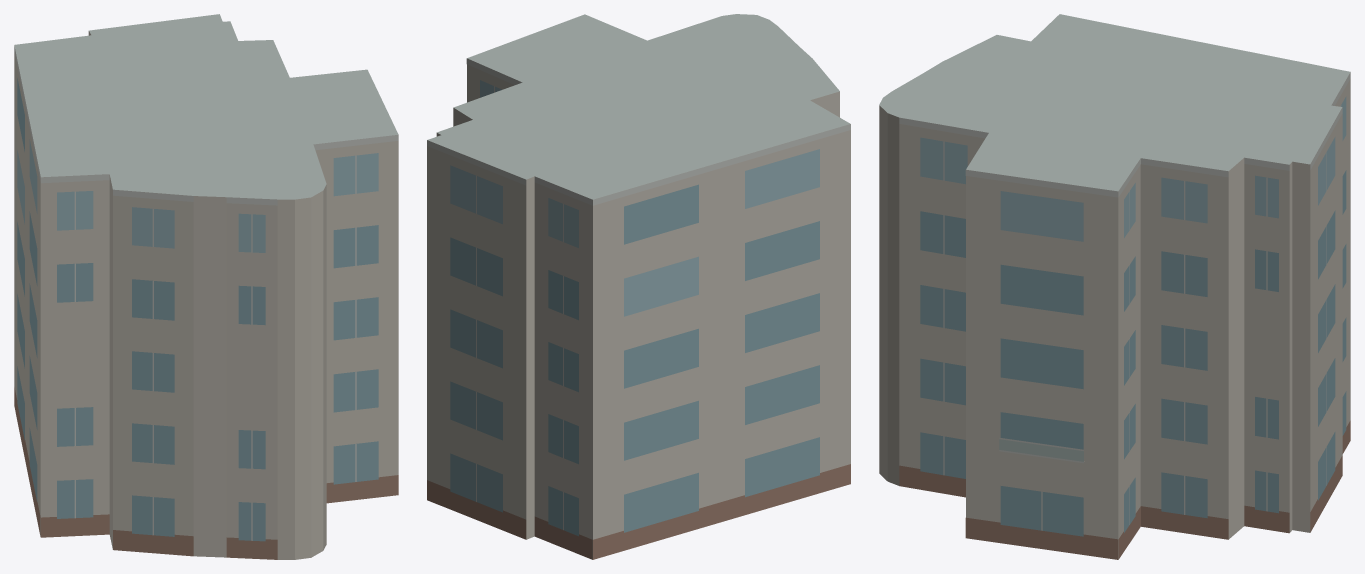
Rendered from survey-upis-32779624.glb.
3 views of the same model, side by side, from view 1: azimuth 30°, elevation 25°; view 2: azimuth 150°, elevation 25°; view 3: azimuth 270°, elevation 25° (orthographic). The views are drawn at different scales.
Visible parts, largest first — view 1: survey-upis-32779624.tmp; view 2: survey-upis-32779624.tmp; view 3: survey-upis-32779624.tmp.
Part boxes in pixels (left/top/right/bottom): survey-upis-32779624.tmp: left=14, top=14, right=398, bottom=559; survey-upis-32779624.tmp: left=427, top=14, right=850, bottom=559; survey-upis-32779624.tmp: left=879, top=14, right=1350, bottom=559.
Bounding box in the file's own units: 14.98 × 14.5 × 16.82.
